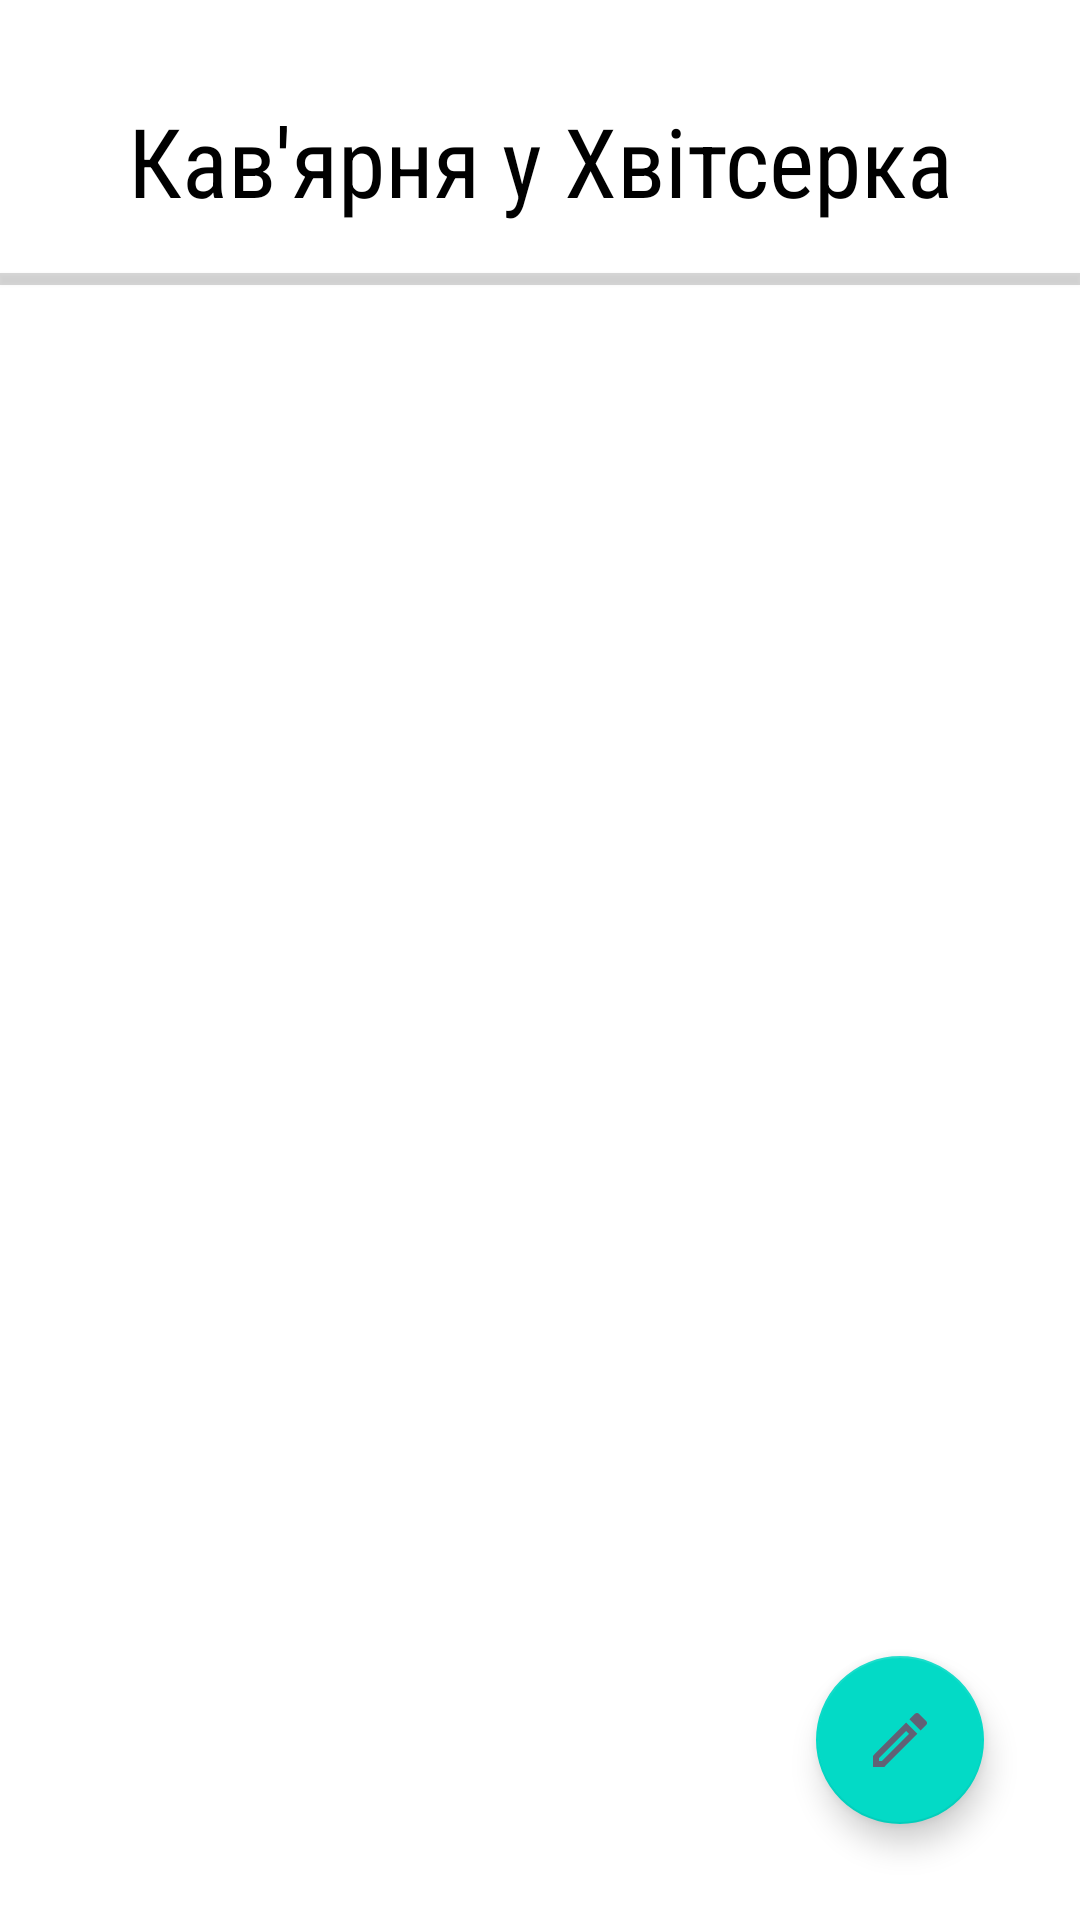

Screen size 1080×1920. Icon name, then its center in pixels as (x,y):
create: (900,1740)
